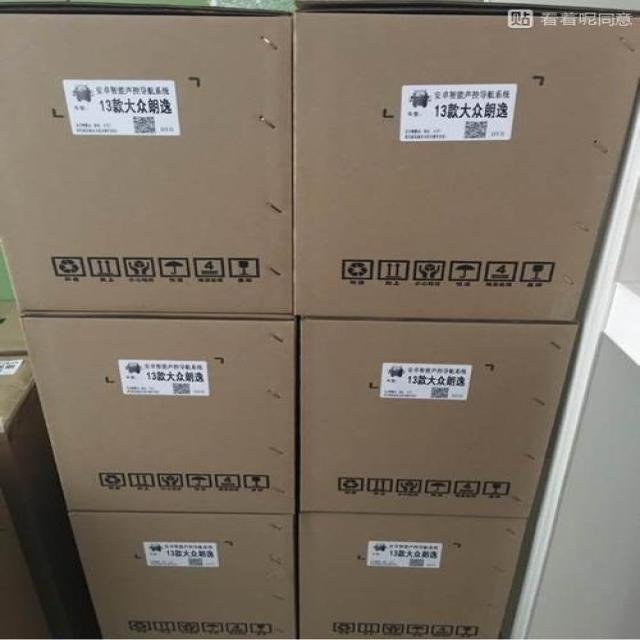box: (294, 2, 640, 320), (1, 4, 292, 313), (301, 317, 580, 517), (20, 314, 294, 513), (300, 512, 529, 640), (0, 353, 102, 637), (70, 513, 297, 639), (0, 298, 27, 352)
